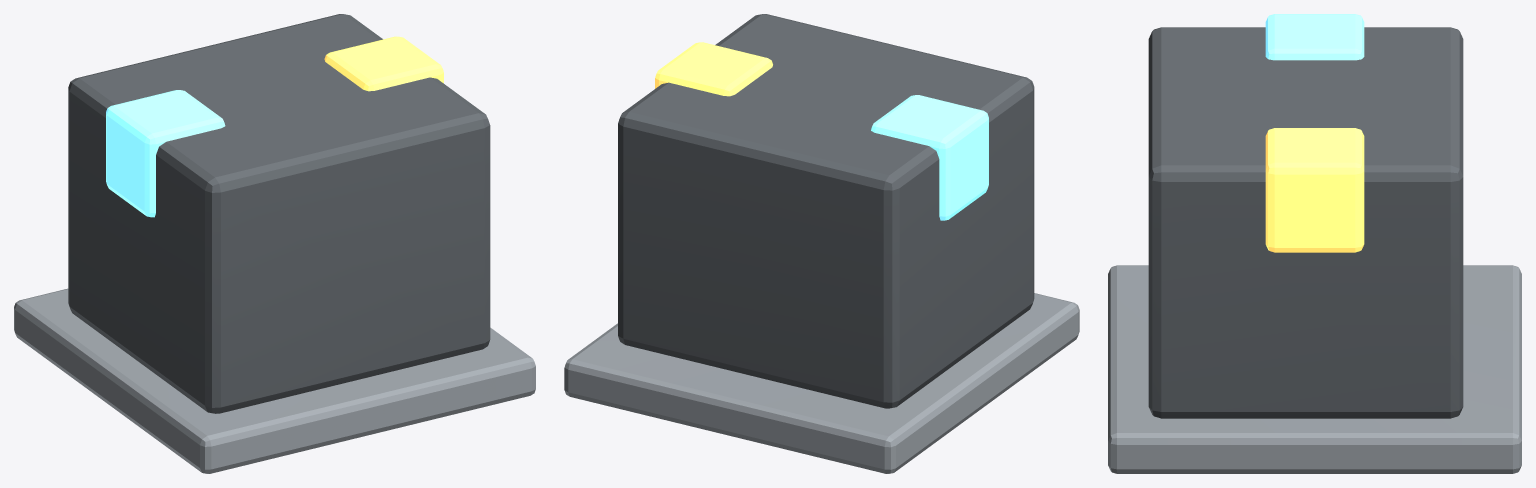
3 views of the same model, side by side, from view 1: azimuth 30°, elevation 25°; view 2: azimuth 150°, elevation 25°; view 3: azimuth 270°, elevation 25° (orthographic). The views are drawn at different scales.
Parts seen in each view (by area): view 1: Part_Body, Part_Accent, Part_In, Part_Out; view 2: Part_Body, Part_Accent, Part_In, Part_Out; view 3: Part_Body, Part_Accent, Part_Out, Part_In.
Part boxes in pixels (left/top/right/bottom): Part_Body: left=68, top=14, right=490, bottom=413; Part_Accent: left=14, top=288, right=535, bottom=473; Part_In: left=106, top=90, right=225, bottom=217; Part_Out: left=324, top=36, right=443, bottom=91; Part_Body: left=618, top=14, right=1034, bottom=408; Part_Accent: left=564, top=293, right=1079, bottom=473; Part_In: left=871, top=95, right=988, bottom=220; Part_Out: left=655, top=42, right=772, bottom=96; Part_Body: left=1148, top=27, right=1463, bottom=418; Part_Accent: left=1108, top=265, right=1521, bottom=473; Part_Out: left=1265, top=128, right=1364, bottom=252; Part_In: left=1265, top=14, right=1364, bottom=60.
Bounding box in the file's own units: 0.92 × 0.74 × 0.92.
